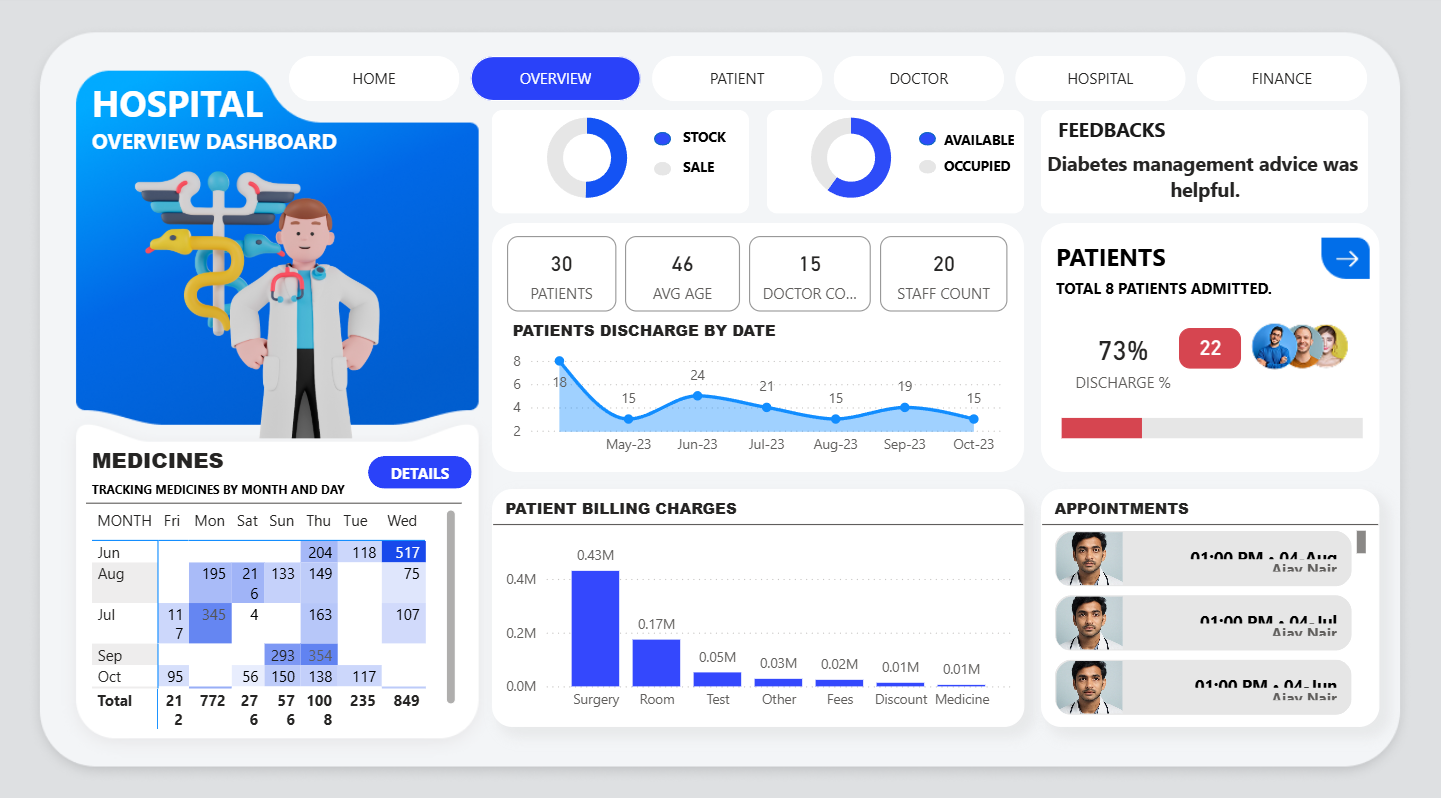

Layout of this report page (visuals, bound fields, positions):
{"tool":"powerbi","page":{"name":"OVERVIEW","canvas":[1280,720],"ordinal":1},"visuals":[{"type":"shape","box":[924.2,100.8,290.3,91.7],"z":0},{"type":"shape","box":[681.3,100.8,227.8,91.7],"z":1000},{"type":"shape","box":[437.4,100.8,227.8,91.7],"z":2000},{"type":"shape","box":[924.2,201.6,300.3,220.7],"z":3000},{"type":"shape","box":[437.4,201.6,471.7,220.7],"z":4000},{"type":"image","box":[99,131,266,266],"z":5000},{"type":"textbox","box":[77,67,250,85],"z":6000},{"type":"pivotTable","title":"MEDICINES","fields":{"Values":["Sum(medicine_patient.qty)"],"Columns":["CALENDAR.DAY"],"Rows":["CALENDAR.MONTH"]},"box":[77,397,333,257],"z":7000},{"type":"actionButton","box":[327,408,92,29],"z":8000},{"type":"pageNavigator","box":[257.1,53.2,957.6,40.8],"z":9000},{"type":"clusteredColumnChart","title":"PATIENT BILLING CHARGES","fields":{"Category":["Bills.Charges_Type"],"Y":["Sum(Bills.Value)"]},"box":[437,437,472,211],"z":10000},{"type":"advancedSlicerVisual","title":"APPOINTMENTS","fields":{"Values":["appointment.Appointment_Time_Date"]},"box":[924,437,300,211],"z":11000},{"type":"card","fields":{"Values":["_MEASURES.patient_count"]},"box":[450.5,212.7,96.8,66.5],"z":12000},{"type":"card","fields":{"Values":["Avg(patient_details.patient_age)"]},"box":[555.3,212.7,101.8,66.5],"z":13000},{"type":"card","fields":{"Values":["Count(patient_details.doctor_id)"]},"box":[665.2,212.7,107.8,66.5],"z":14000},{"type":"card","fields":{"Values":["Count(staff.staff_id)"]},"box":[781.1,212.7,112.9,66.5],"z":15000},{"type":"areaChart","title":"PATIENTS DISCHARGE BY DATE","fields":{"Category":["patient_details.FORMAT_DISCHARGED _DATE"],"Y":["_MEASURES.patient_count"]},"box":[450.5,286.2,443.5,129],"z":16000},{"type":"image","box":[1100.6,209.6,124,127],"z":17000},{"type":"shape","box":[937.3,212.7,122,36.3],"z":18000},{"type":"shape","box":[937.3,242.9,195.5,30.2],"z":19000},{"type":"card","fields":{"Values":["_MEASURES.DISCHARGE %"]},"box":[933.3,279.2,126,85.7],"z":20000},{"type":"card","fields":{"Values":["_MEASURES.DISCHARGE_PATIENT"]},"box":[1046.2,294.3,55.4,36.3],"z":21000},{"type":"hundredPercentStackedBarChart","fields":{"Y":["_MEASURES.patient_count"],"Series":["patient_details.patient_status"]},"box":[937.3,336.6,277.2,85.7],"z":22000},{"type":"donutChart","title":"MEDICINE STOCK STATUS","fields":{"Y":["_MEASURES.TOTAL_STOCK_QTY","_MEASURES.TOTAL_MED_SALE_QTY"]},"box":[461.6,93.7,118.9,98.8],"z":23000},{"type":"donutChart","title":"MEDICINE STOCK STATUS","fields":{"Y":["Count(beds_info.beds)"],"Category":["beds_info.status"]},"box":[696.4,93.7,118.9,98.8],"z":24000},{"type":"shape","box":[606.7,106.8,45.4,36.3],"z":25000},{"type":"shape","box":[606.7,133,45.4,36.3],"z":26000},{"type":"shape","box":[580.5,120.9,15.1,12.1],"z":27000},{"type":"shape","box":[580.5,147.1,15.1,12.1],"z":28000},{"type":"shape","box":[837.5,114.9,75.6,24.2],"z":29000},{"type":"shape","box":[837.5,141.1,71.6,18.1],"z":30000},{"type":"shape","box":[815.4,120.9,15,12.1],"z":31000},{"type":"shape","box":[815.4,145.1,15.1,12.1],"z":32000},{"type":"card","fields":{"Values":["Min(patient_details.satisfaction_feedback)"]},"box":[924.2,127,286.2,65.5],"z":33000},{"type":"shape","box":[939.3,96.8,95.7,41.3],"z":34000}]}

Visuals, with their boxes in screenshot pixels (x1, y1, x2, y2), scaled from the page's 1280x720 canvas onto the 1441x798 screenshot:
shape: BBox(1040, 112, 1367, 213)
shape: BBox(767, 112, 1023, 213)
shape: BBox(492, 112, 749, 213)
shape: BBox(1040, 223, 1379, 468)
shape: BBox(492, 223, 1023, 468)
image: BBox(111, 145, 411, 440)
textbox: BBox(87, 74, 368, 168)
"MEDICINES" pivotTable: BBox(87, 440, 462, 725)
actionButton: BBox(368, 452, 472, 484)
pageNavigator: BBox(289, 59, 1367, 104)
"PATIENT BILLING CHARGES" clusteredColumnChart: BBox(492, 484, 1023, 718)
"APPOINTMENTS" advancedSlicerVisual: BBox(1040, 484, 1378, 718)
card - _MEASURES.patient_count: BBox(507, 236, 616, 309)
card - Avg(patient_details.patient_age): BBox(625, 236, 740, 309)
card - Count(patient_details.doctor_id): BBox(749, 236, 870, 309)
card - Count(staff.staff_id): BBox(879, 236, 1006, 309)
"PATIENTS DISCHARGE BY DATE" areaChart: BBox(507, 317, 1006, 460)
image: BBox(1239, 232, 1379, 373)
shape: BBox(1055, 236, 1193, 276)
shape: BBox(1055, 269, 1275, 303)
card - _MEASURES.DISCHARGE %: BBox(1051, 309, 1193, 404)
card - _MEASURES.DISCHARGE_PATIENT: BBox(1178, 326, 1240, 366)
hundredPercentStackedBarChart - _MEASURES.patient_count x patient_details.patient_status: BBox(1055, 373, 1367, 468)
"MEDICINE STOCK STATUS" donutChart: BBox(520, 104, 654, 213)
"MEDICINE STOCK STATUS" donutChart: BBox(784, 104, 918, 213)
shape: BBox(683, 118, 734, 159)
shape: BBox(683, 147, 734, 188)
shape: BBox(654, 134, 671, 147)
shape: BBox(654, 163, 671, 176)
shape: BBox(943, 127, 1028, 154)
shape: BBox(943, 156, 1023, 176)
shape: BBox(918, 134, 935, 147)
shape: BBox(918, 161, 935, 174)
card - Min(patient_details.satisfaction_feedback): BBox(1040, 141, 1363, 213)
shape: BBox(1057, 107, 1165, 153)
